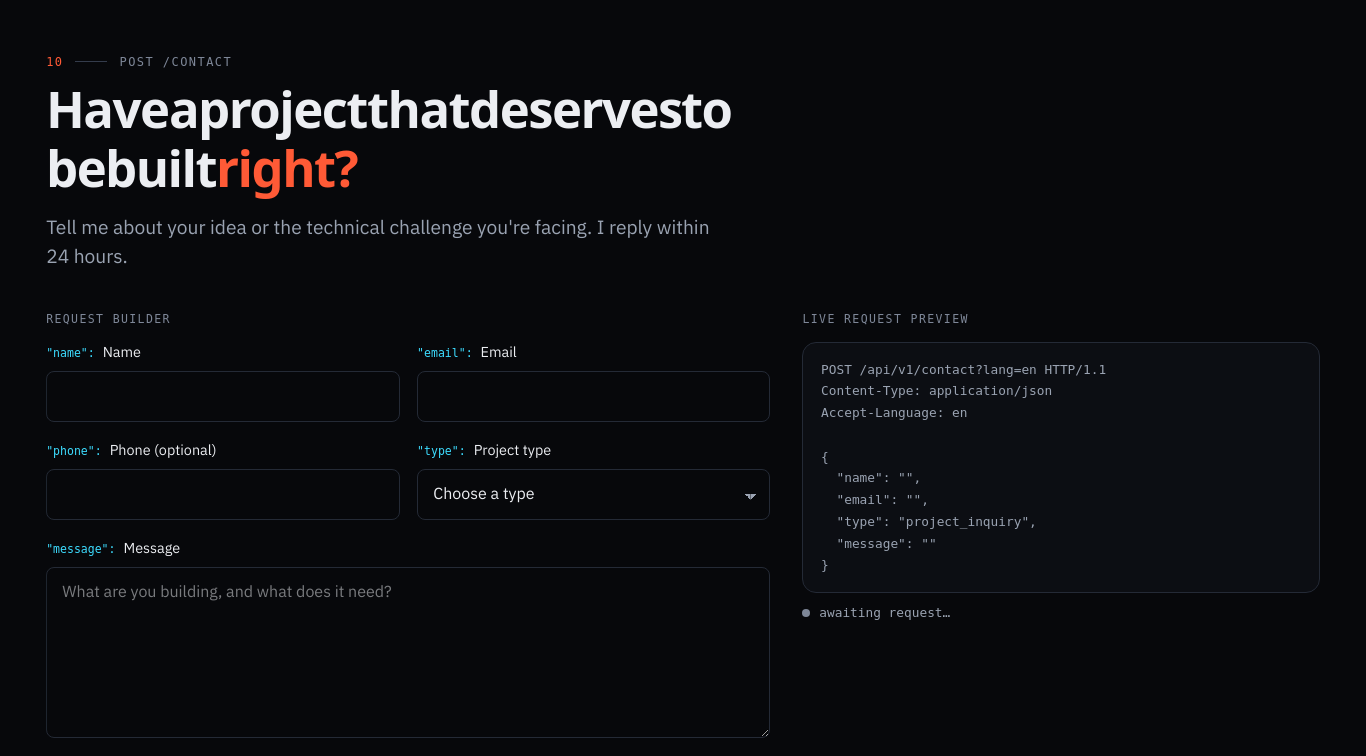
Scenario: Contact request builder › shows "500 — Retry" when the request fails
Type "Sample Person" into the field labelled "\"name\": Name". click: (223, 396)
box: [46,371,400,422]
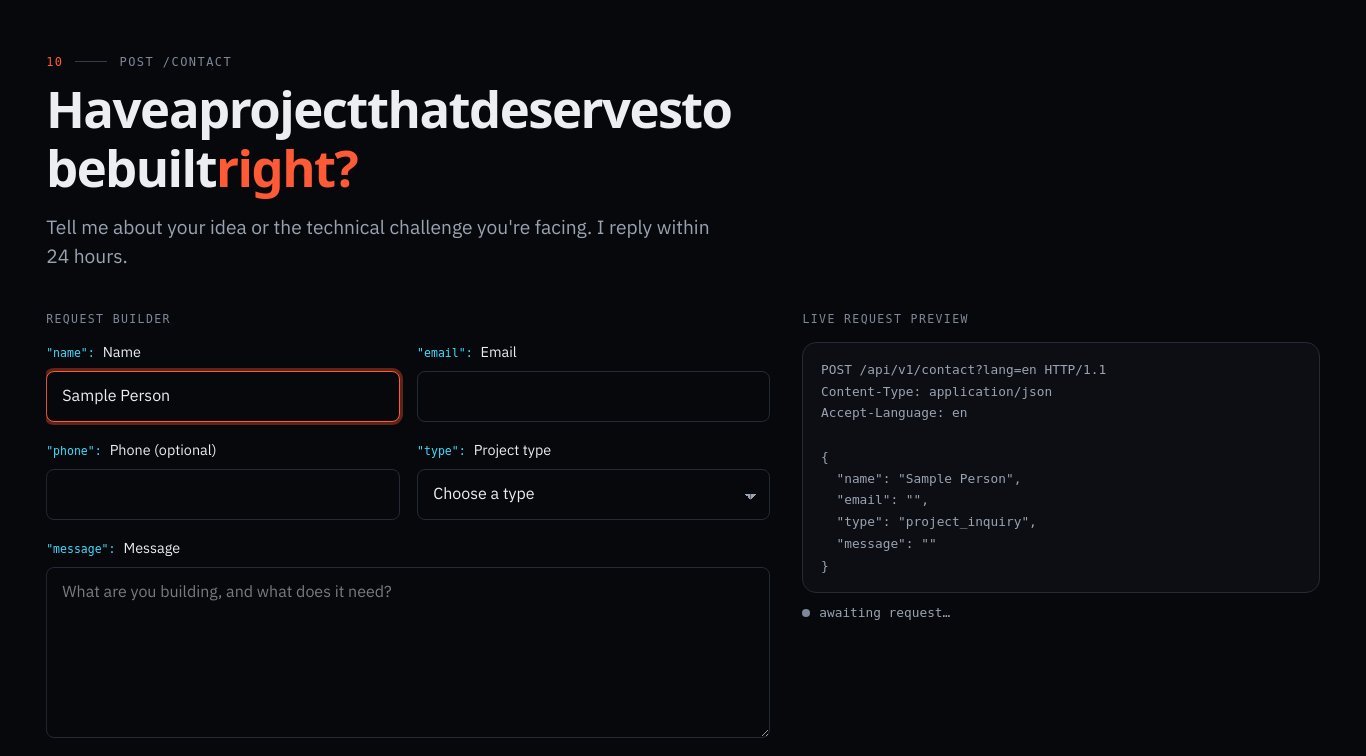
Type "person@example.com" into the field labelled "\"email\": Email". click: (594, 396)
box: [417,371,770,422]
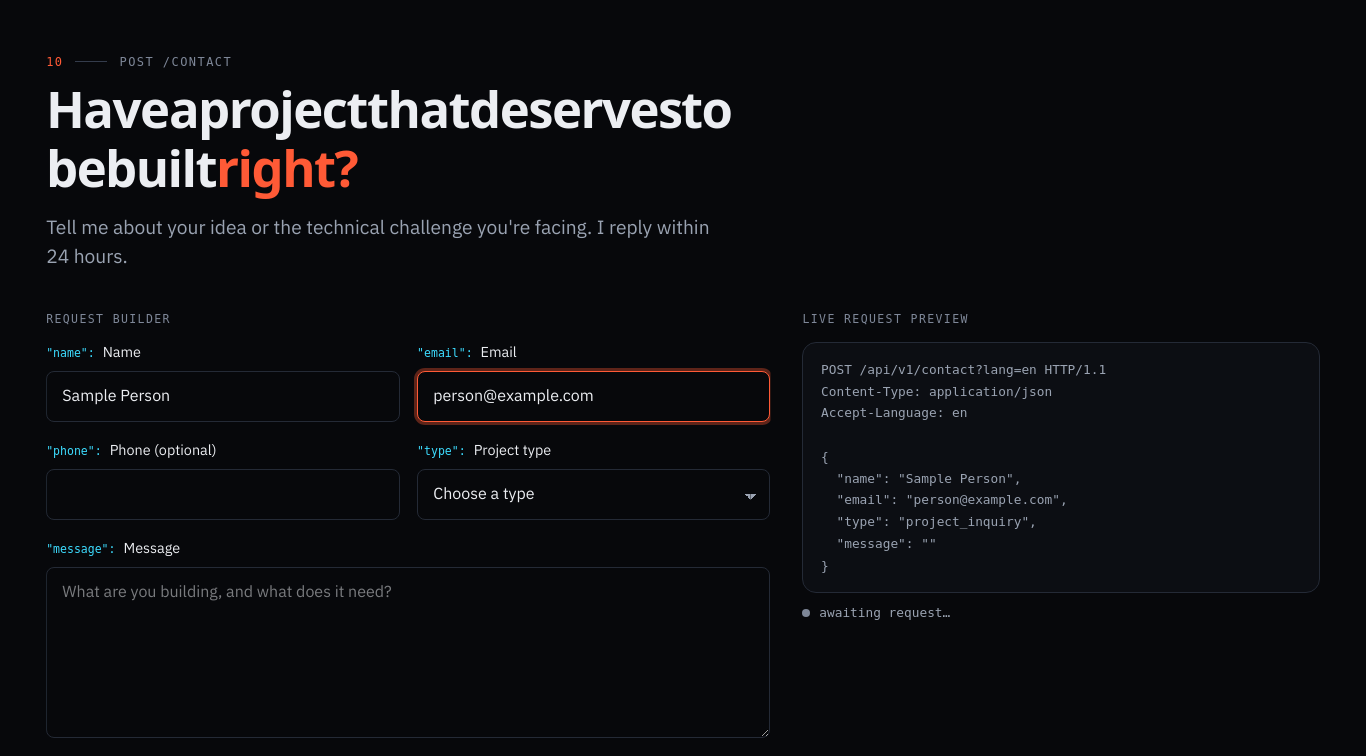
Select "API design & development" in the dropdown labelled "\"type\": Project type". click: (594, 494)
box: [417,469,770,520]
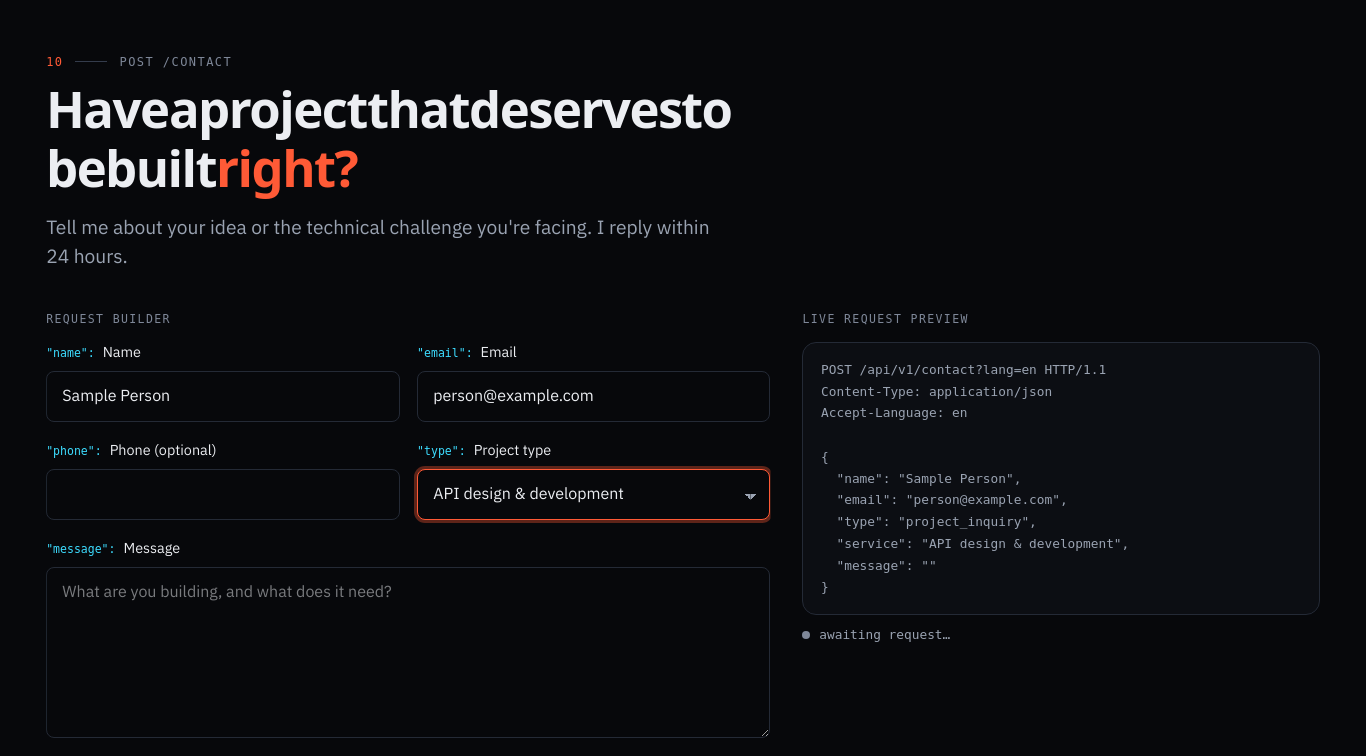
Type "We need a documented REST API." into the text box labelled "\"message\": Message". click: (408, 652)
box: [46,567,770,738]
(page scrolled)
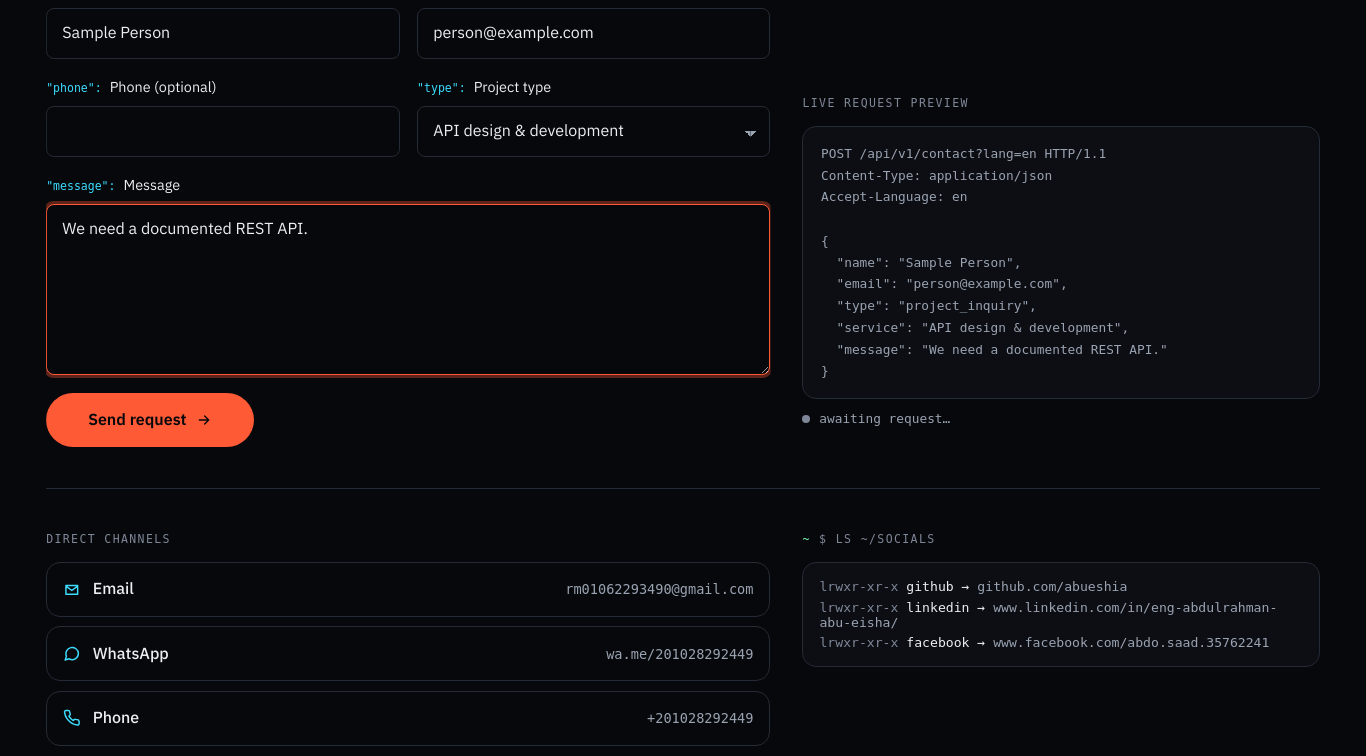
Click the button "Send request". click: (150, 420)
box: [46,393,254,447]
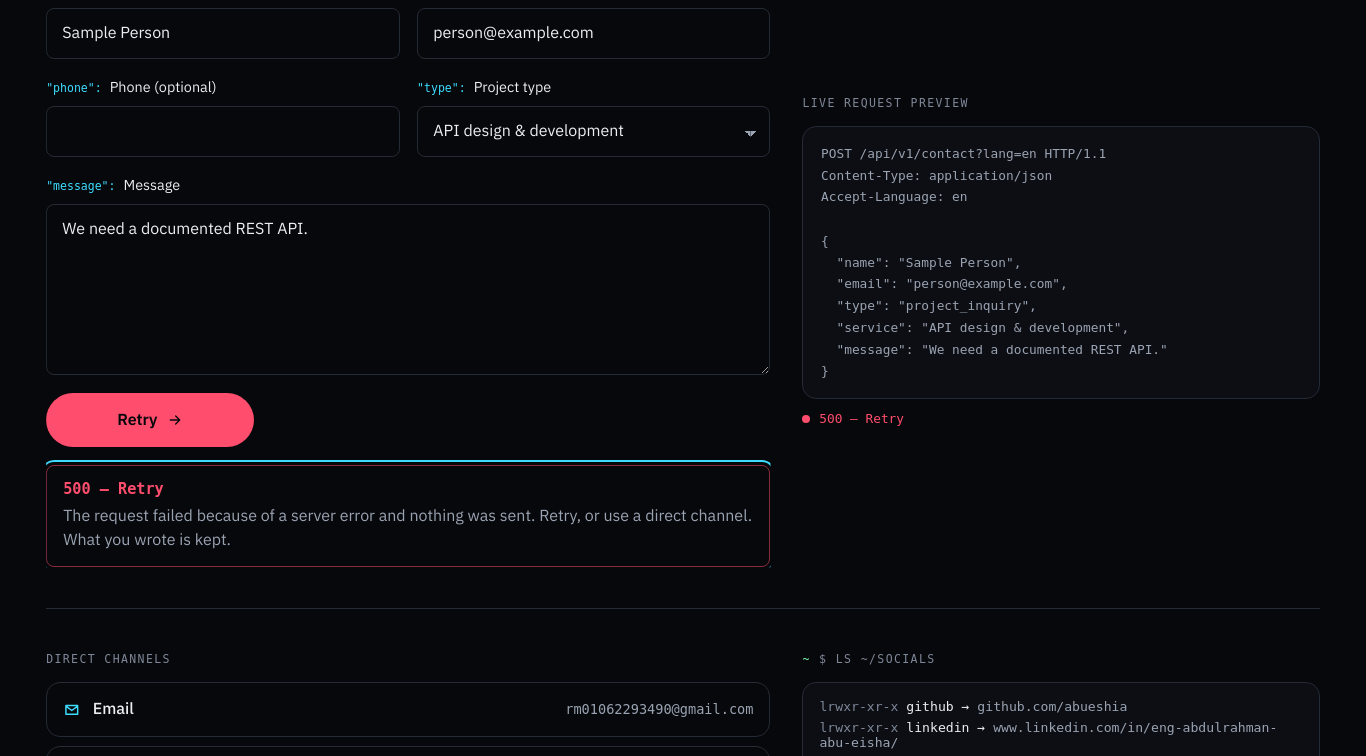
Result: the message that starts with "500 — Retry" is shown at [63,480,164,498]
